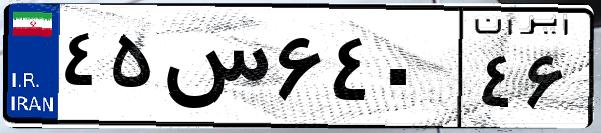0: (385, 28, 445, 110)
4: (330, 28, 385, 110), (57, 26, 110, 100), (475, 38, 525, 113)
5: (110, 28, 158, 98)
6: (270, 28, 330, 110), (525, 38, 570, 115)
س: (158, 20, 270, 120)
